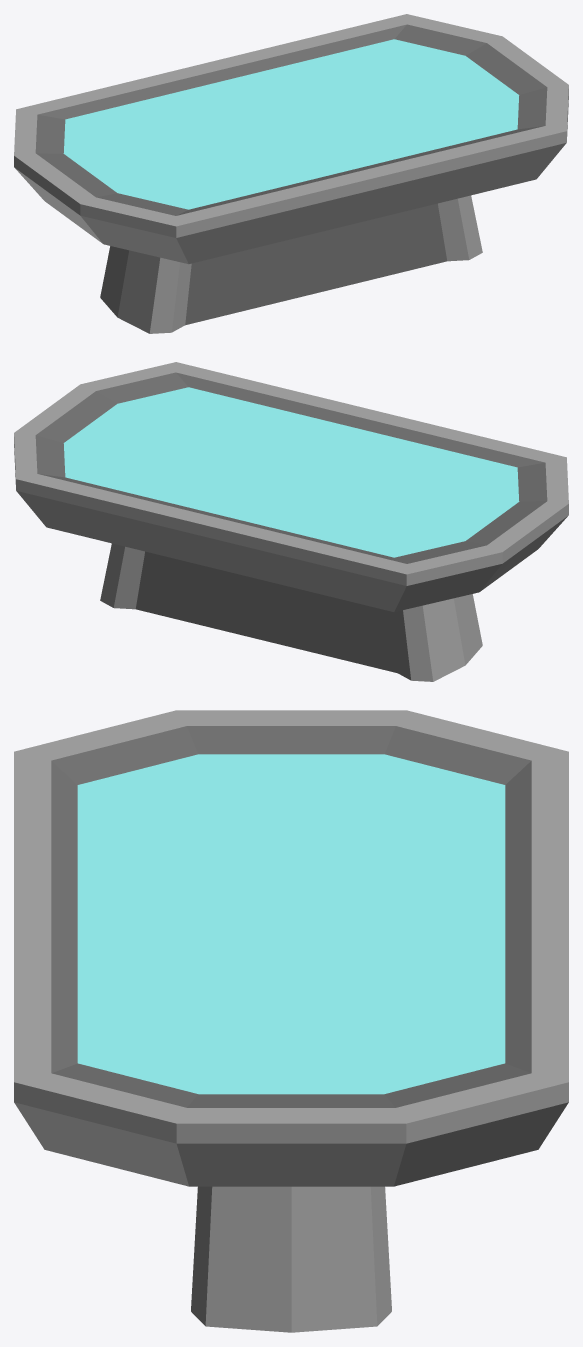
Rendered from SciFi_Modular_Table_Long_Grey_01.fbx.
3 views of the same model, one above another, from view 1: azimuth 30°, elevation 25°; view 2: azimuth 150°, elevation 25°; view 3: azimuth 270°, elevation 25° (orthographic). The views are drawn at different scales.
Visible parts, largest first — view 1: SciFi_Modular_Table_Long_Grey_01; view 2: SciFi_Modular_Table_Long_Grey_01; view 3: SciFi_Modular_Table_Long_Grey_01.
Boxes of the visible parts, box(x1,y1,x2,y2) form: SciFi_Modular_Table_Long_Grey_01: box(14, 14, 568, 333); SciFi_Modular_Table_Long_Grey_01: box(14, 362, 568, 681); SciFi_Modular_Table_Long_Grey_01: box(14, 710, 568, 1332).
Size of the model in its own units: 126 by 38.04 by 71.23.
